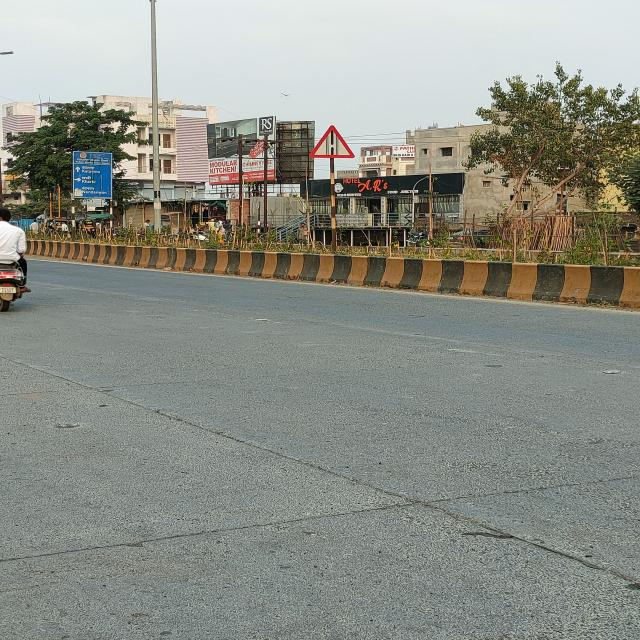GAP_IN_MEDIAN: (306, 125, 353, 159)
